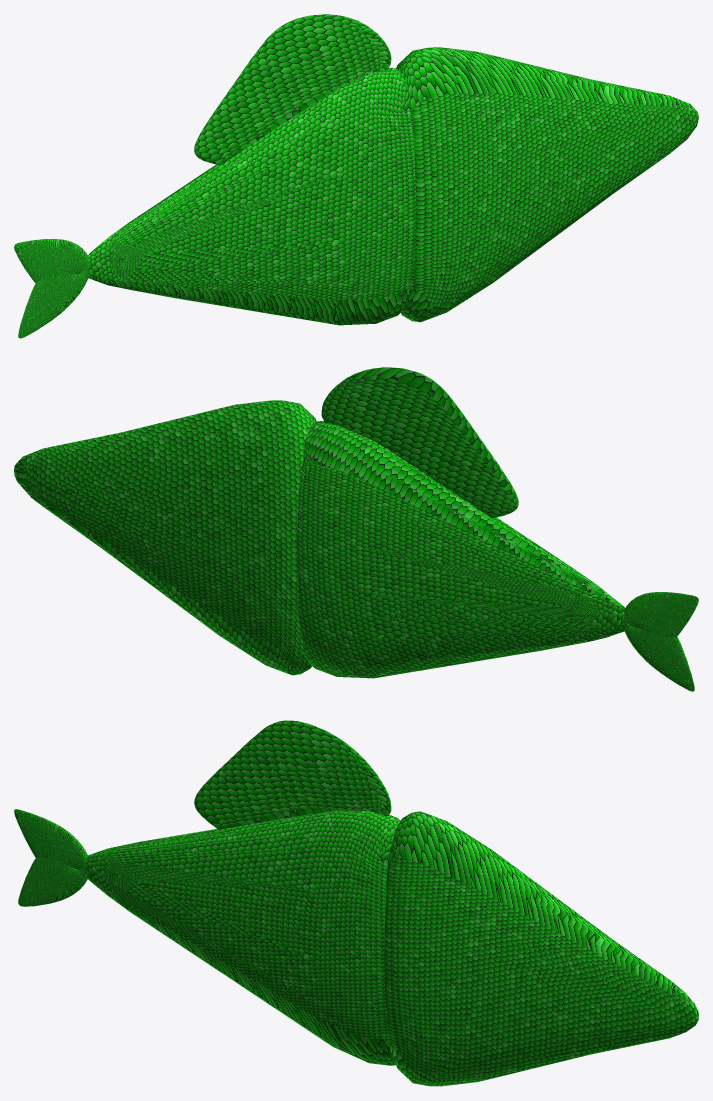
Rendered from Fish5Full2.dae.
3 views of the same model, one above another, from view 1: azimuth 30°, elevation 25°; view 2: azimuth 150°, elevation 25°; view 3: azimuth 330°, elevation 25° (orthographic).
Visible parts, largest first — view 1: Cube_Cube_001_001, Cube_Cube_001, Cube, Cube_001; view 2: Cube_Cube_001_001, Cube_Cube_001, Cube, Cube_001; view 3: Cube_Cube_001, Cube_Cube_001_001, Cube, Cube_001.
Part boxes in pixels (x1,y1,x2,y2): Cube_Cube_001_001: [87, 68, 415, 325]; Cube_Cube_001: [396, 47, 698, 322]; Cube: [194, 14, 391, 164]; Cube_001: [14, 239, 88, 338]; Cube_Cube_001_001: [297, 421, 625, 678]; Cube_Cube_001: [14, 400, 316, 675]; Cube: [321, 367, 518, 518]; Cube_001: [623, 592, 698, 691]; Cube_Cube_001: [384, 811, 698, 1086]; Cube_Cube_001_001: [85, 810, 400, 1065]; Cube: [194, 720, 391, 829]; Cube_001: [14, 809, 87, 906].
Size of the model in its own units: 37.62 by 3.37 by 17.47.
3 materials, 3 textured.
